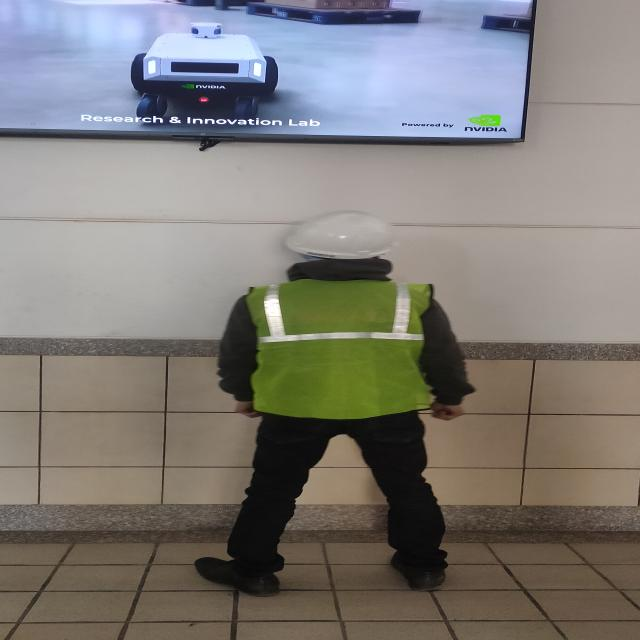safe: (195, 212, 478, 590)
